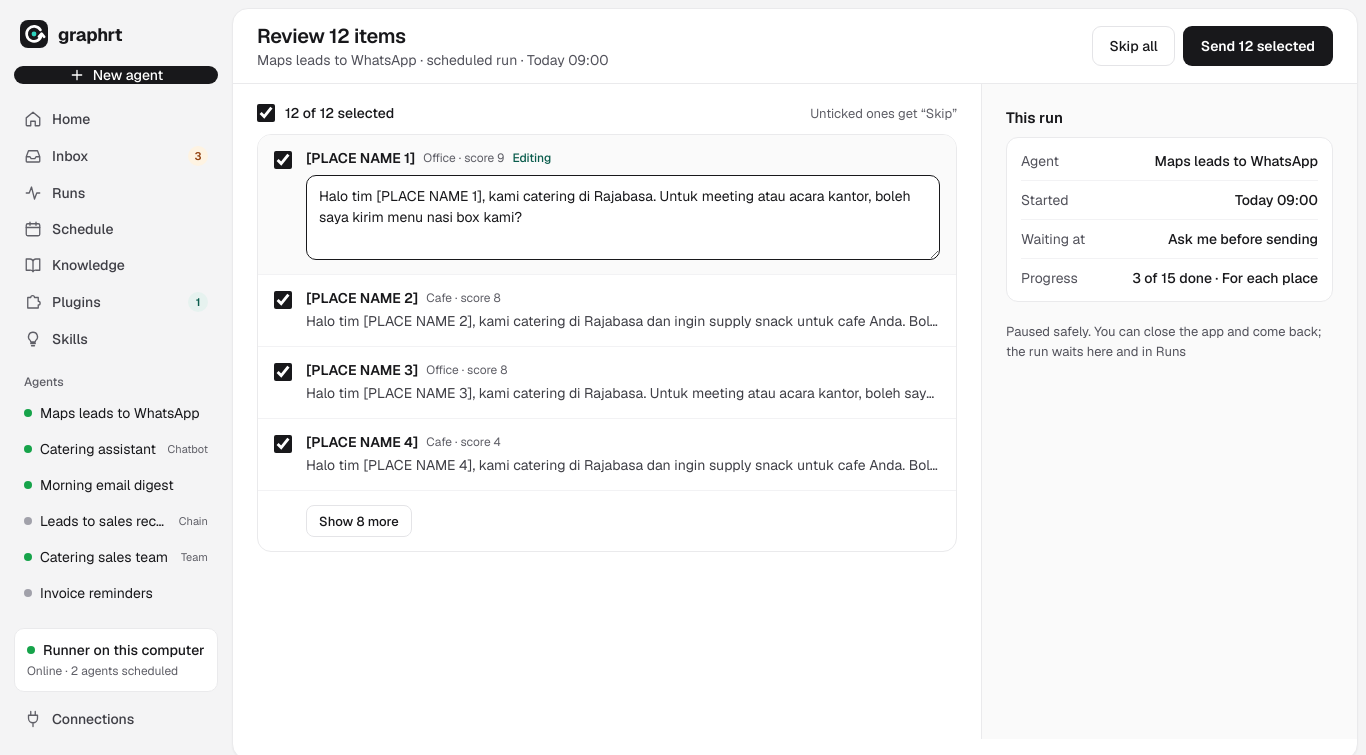
Test: BatchApprovalPage › sends every answer in one resume, with edits and unticked ones skipped
Click the button with aria-label "Edit answer for [PLACE NAME 2]": (623, 322) [306, 311, 940, 332]
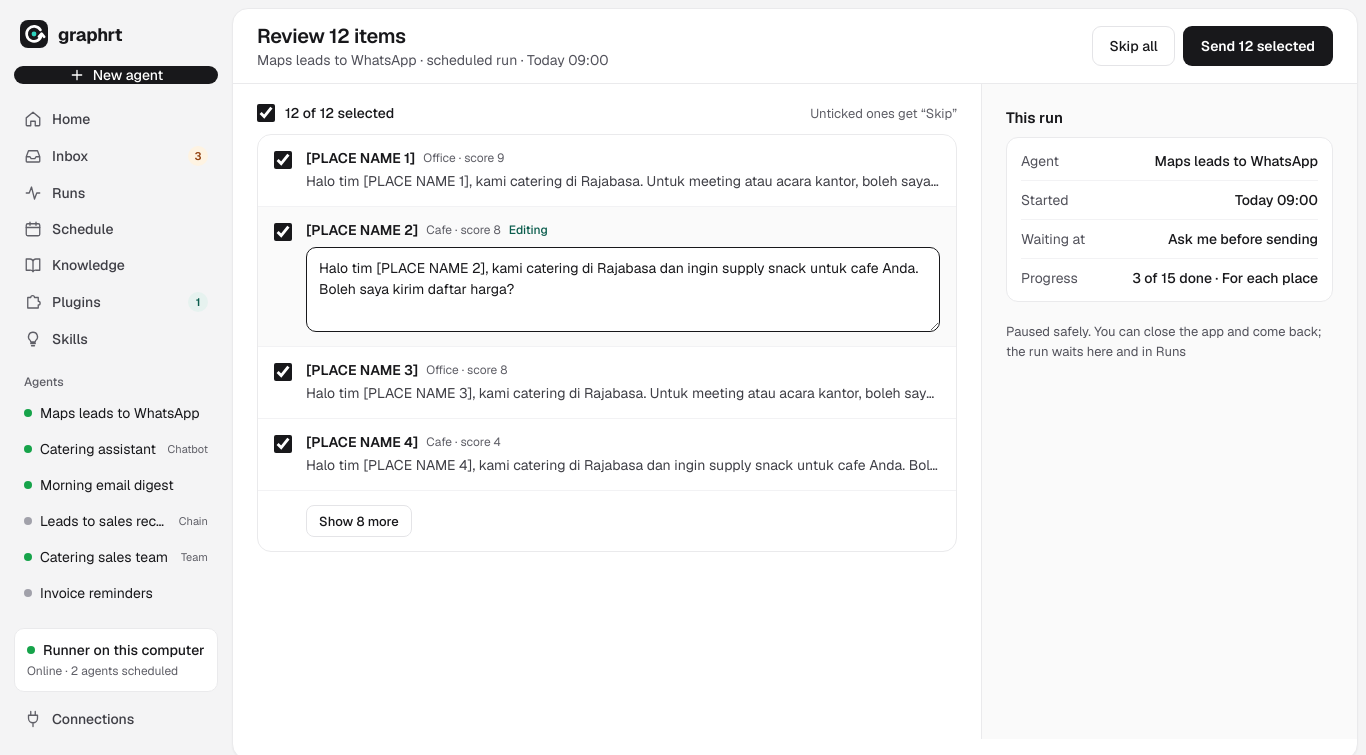
Replace the text in the text box named "Message for [PLACE NAME 2]" with "Halo!": (623, 290) [306, 247, 940, 332]
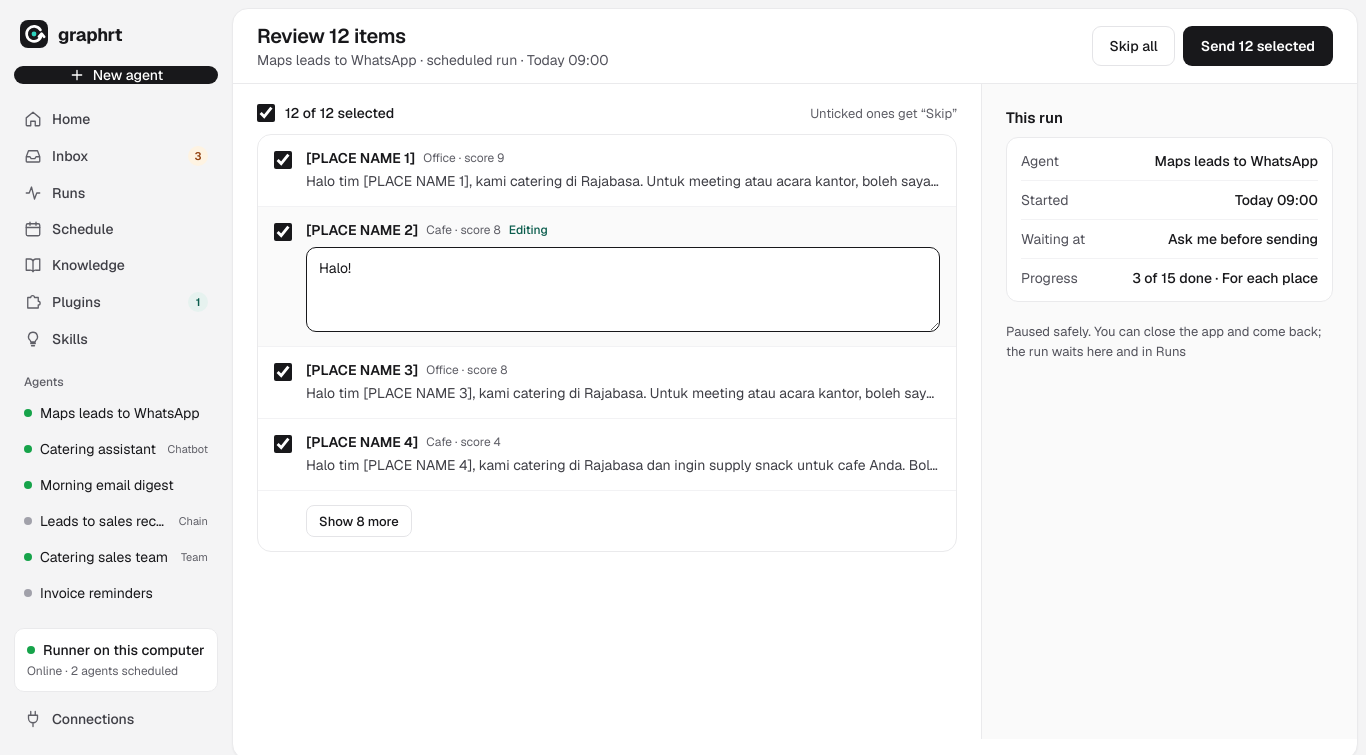
Click the checkbox named "Send: [PLACE NAME 3]": (283, 372) [274, 363, 292, 381]
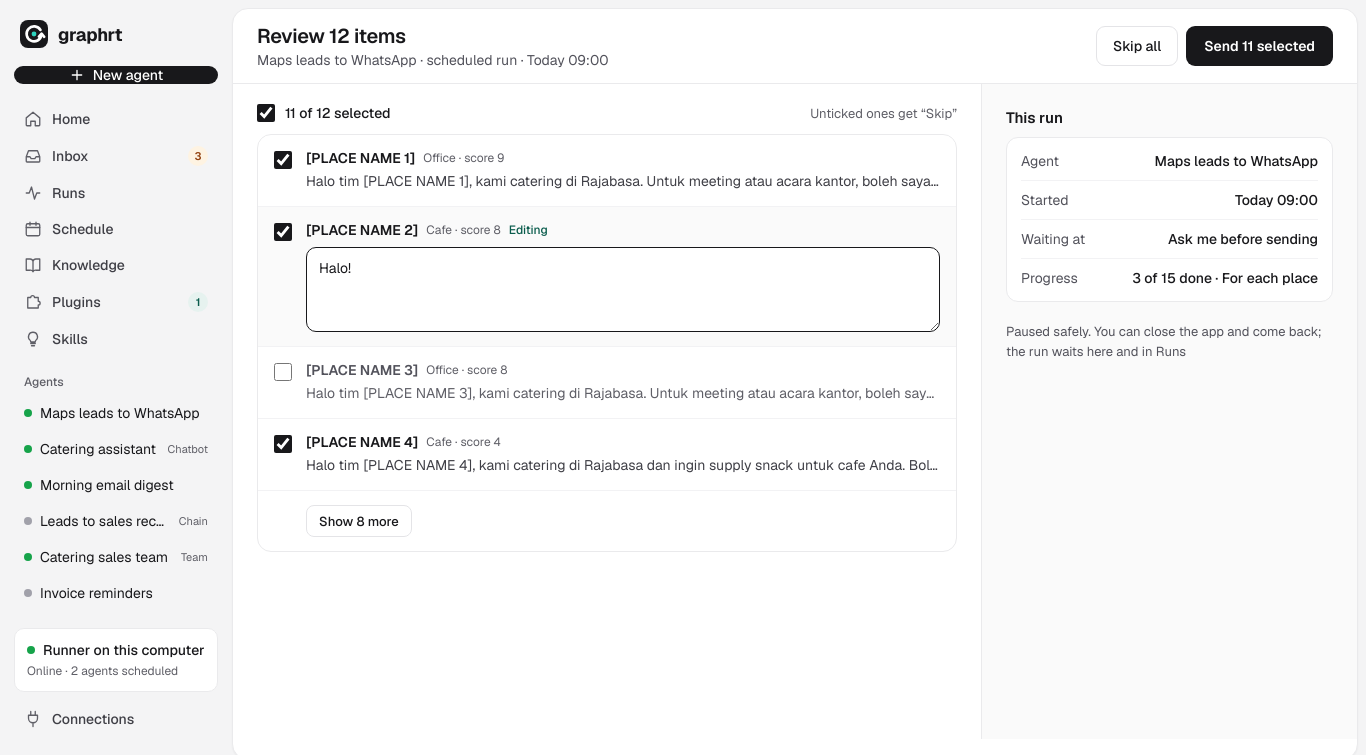
Click the button "Send 11 selected": (1260, 46) [1186, 26, 1333, 66]
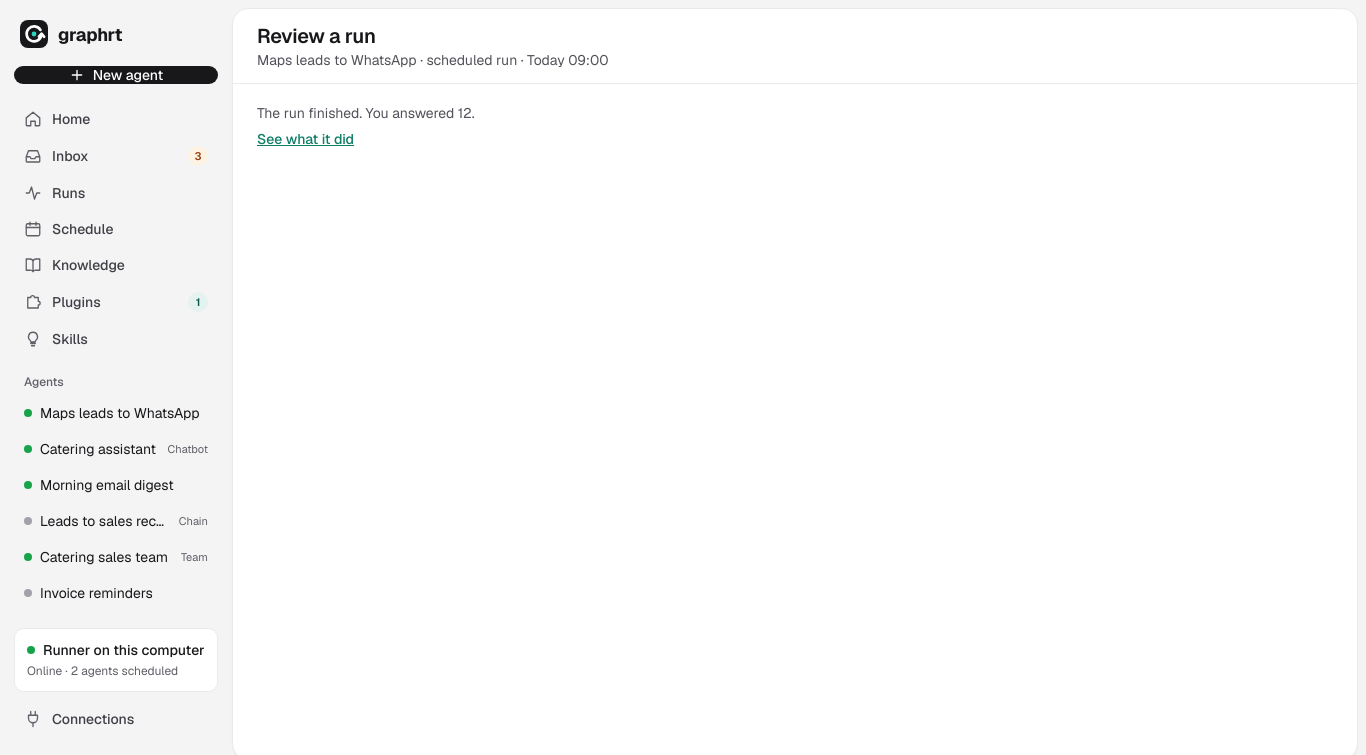
expect the text "The run finished. You answered 12." is shown: met, box [257, 104, 474, 122]
expect the link "See what it did" is shown: met, box [257, 130, 354, 148]
